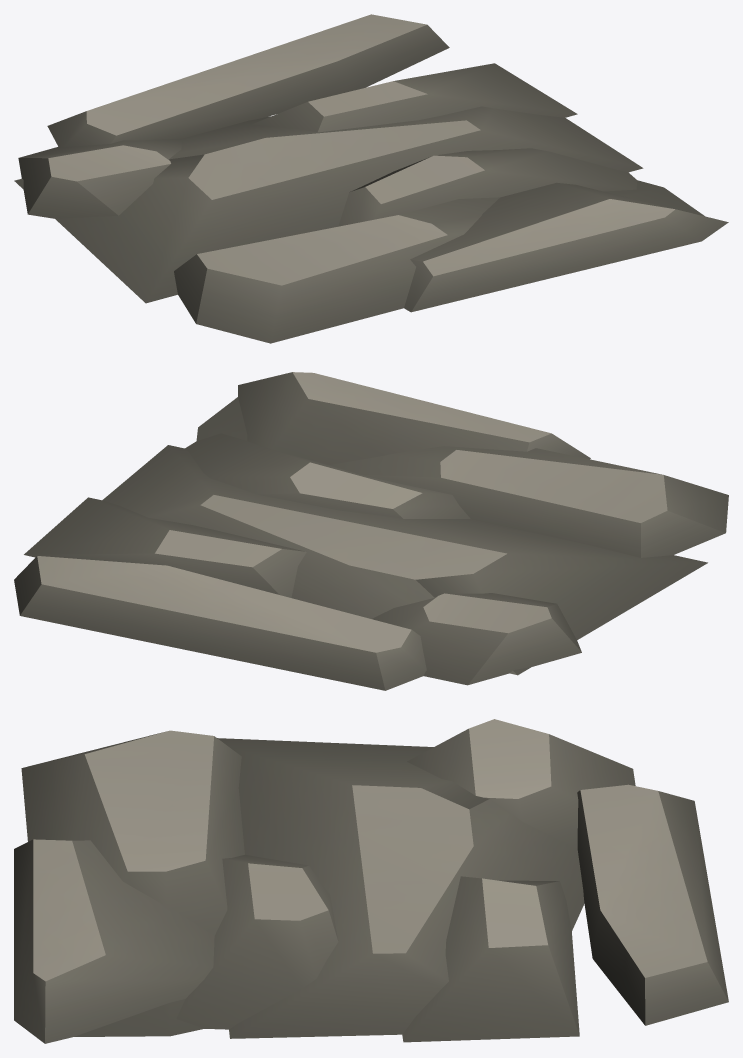
Rendered from Rock_Pavement_1C.fbx.
3 renders of one model, top to bottom at view 1: azimuth 30°, elevation 25°; view 2: azimuth 150°, elevation 25°; view 3: azimuth 270°, elevation 25°, orthographic. The views are drawn at different scales.
Visible parts, largest first — view 1: Rock_Pavement_1C; view 2: Rock_Pavement_1C; view 3: Rock_Pavement_1C.
Part boxes in pixels (box(x1,y1,x2,y2)): Rock_Pavement_1C: box(14, 14, 728, 343); Rock_Pavement_1C: box(14, 372, 728, 690); Rock_Pavement_1C: box(14, 719, 728, 1043).
Bounding box in the file's own units: 197 × 11.59 × 194.
